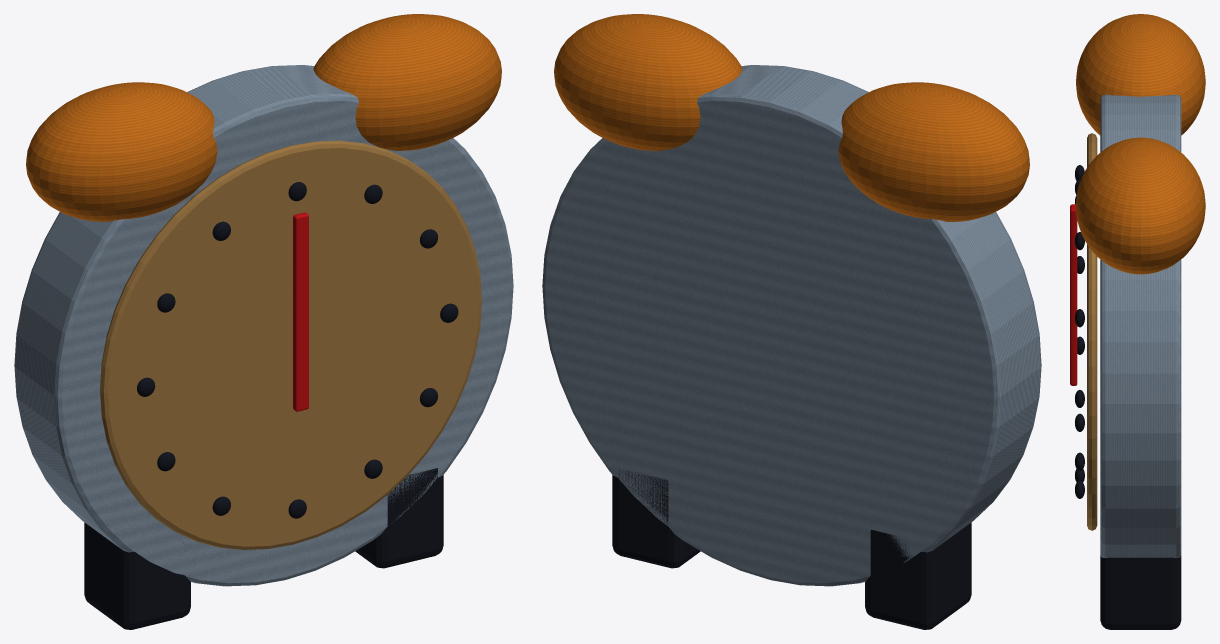
The model's file is reveil-annees-60.glb.
The picture shows the model from 3 angles, left to right: view 1: azimuth 30°, elevation 25°; view 2: azimuth 150°, elevation 25°; view 3: azimuth 270°, elevation 25°; orthographic projection. The views are drawn at different scales.
Visible parts, largest first — view 1: Cadran, Boitier, Cloche G, Cloche D, Pied G, Pied D, Aiguille; view 2: Boitier, Cloche G, Cloche D, Pied G, Pied D; view 3: Boitier, Cloche D, Cloche G, Pied D, Cadran, Aiguille.
Boxes of the visible parts, box(x1,y1,x2,y2) form: Cadran: box(100, 140, 481, 549); Boitier: box(14, 65, 513, 586); Cloche G: box(26, 82, 217, 221); Cloche D: box(313, 14, 501, 150); Pied G: box(84, 522, 190, 629); Pied D: box(355, 468, 443, 568); Aiguille: box(293, 212, 308, 411); Boitier: box(542, 65, 1041, 586); Cloche G: box(838, 82, 1029, 221); Cloche D: box(554, 14, 742, 150); Pied G: box(865, 522, 971, 629); Pied D: box(612, 468, 700, 568); Boitier: box(1100, 94, 1181, 557); Cloche D: box(1076, 137, 1205, 274); Cloche G: box(1076, 14, 1205, 135); Pied D: box(1100, 556, 1181, 629); Cadran: box(1087, 133, 1097, 530); Aiguille: box(1070, 204, 1077, 385).
Size of the model in its own units: 2.38 by 2.57 by 0.668.
5 materials, 5 textured.
